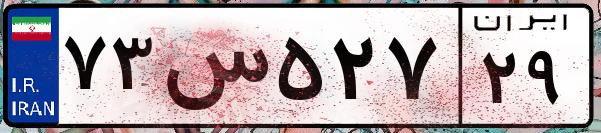2: (330, 28, 385, 110), (475, 38, 525, 113)
3: (110, 28, 158, 98)
5: (270, 28, 330, 110)
7: (385, 28, 445, 110), (57, 26, 110, 100)
9: (525, 38, 570, 115)
س: (158, 20, 270, 120)
